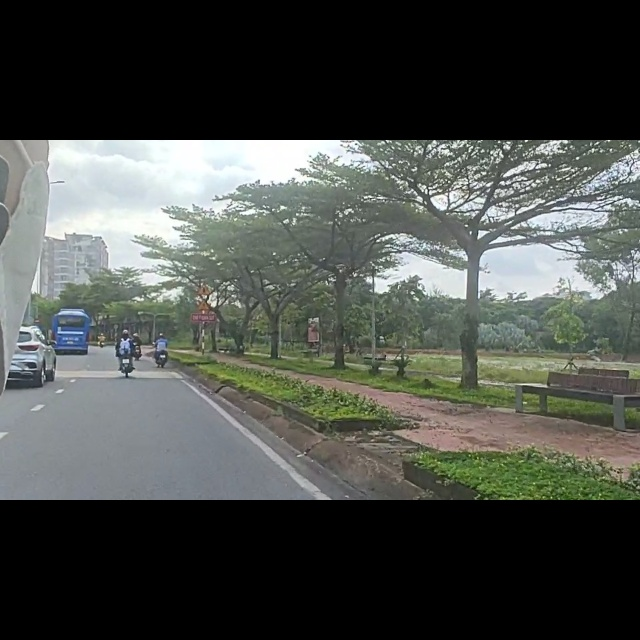bien_nguy_hiem: (195, 283, 212, 303)
